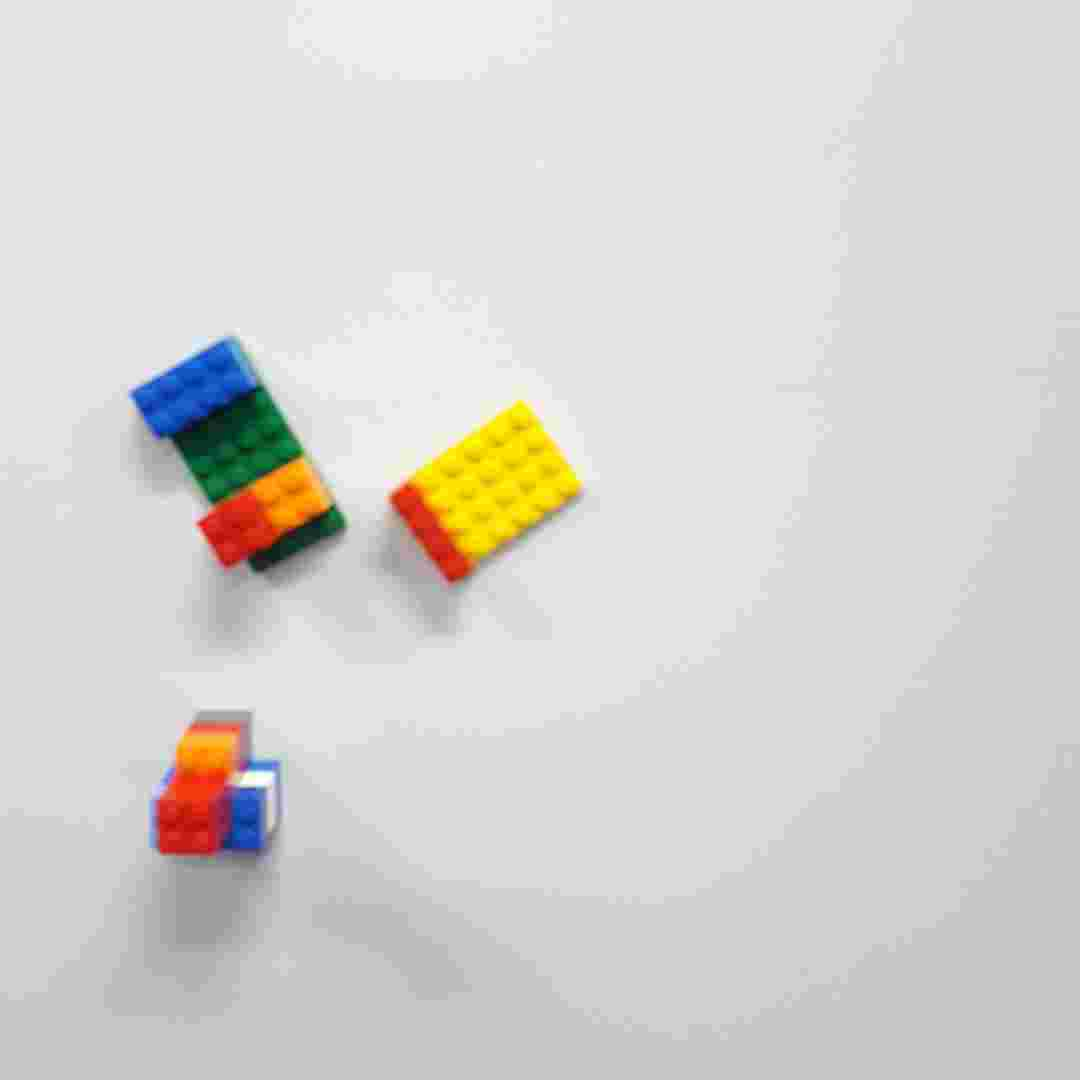LEGO: (129, 334, 352, 581), (388, 396, 591, 581), (144, 706, 286, 862)
